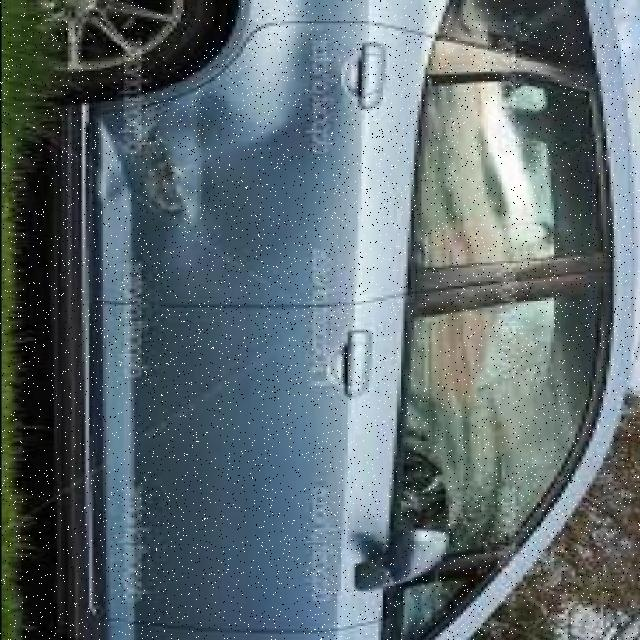damage: (95, 12, 311, 227)
